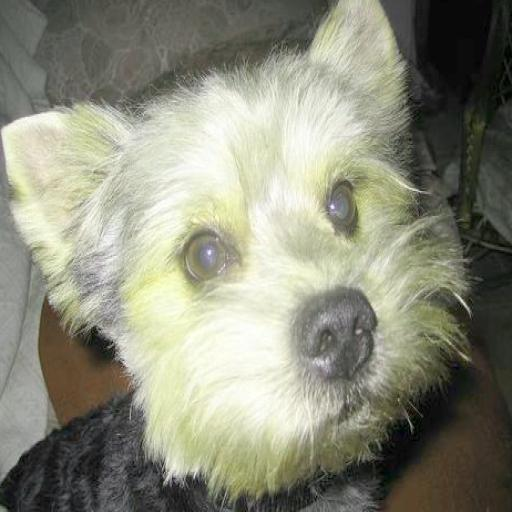dog_face: (2, 22, 431, 443)
